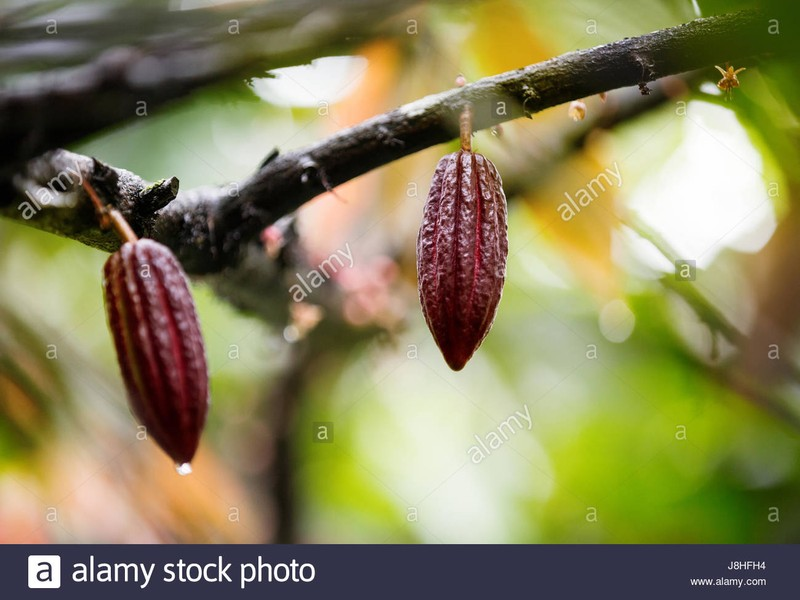Cacaopod: (99, 238, 212, 463), (417, 151, 508, 375)
